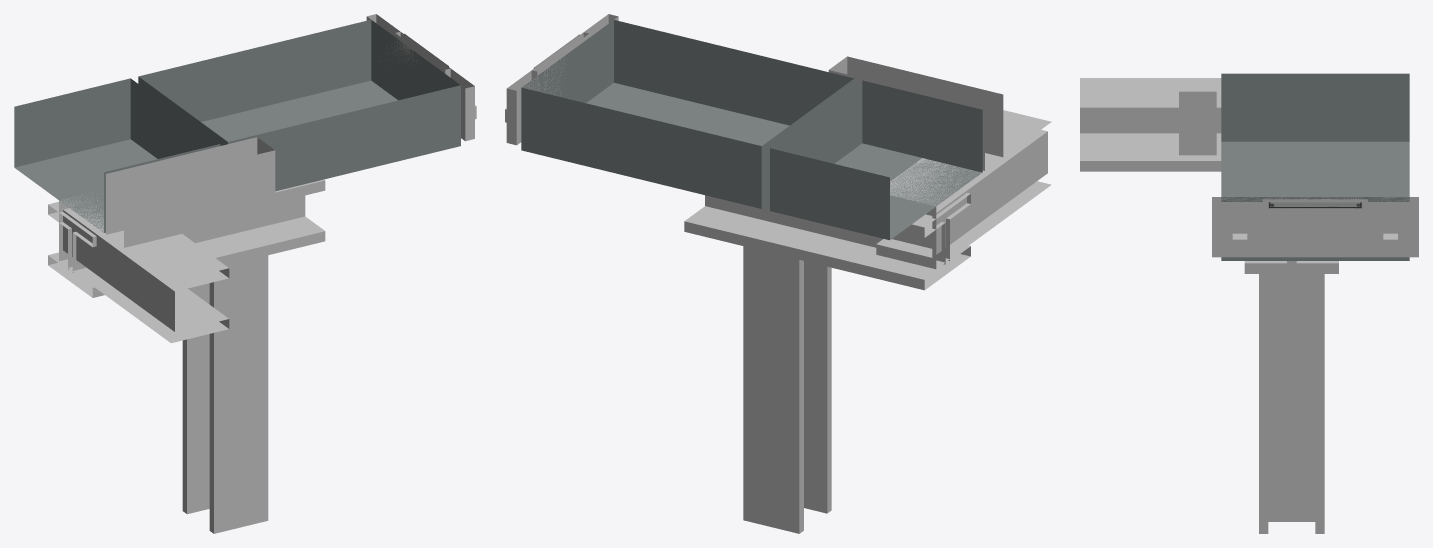
The model's file is cell_5.obj.
3 renders of one model, left to right at view 1: azimuth 30°, elevation 25°; view 2: azimuth 150°, elevation 25°; view 3: azimuth 270°, elevation 25°, orthographic. The views are drawn at different scales.
Bounding box in the file's own units: 0.975 × 1 × 0.72.
